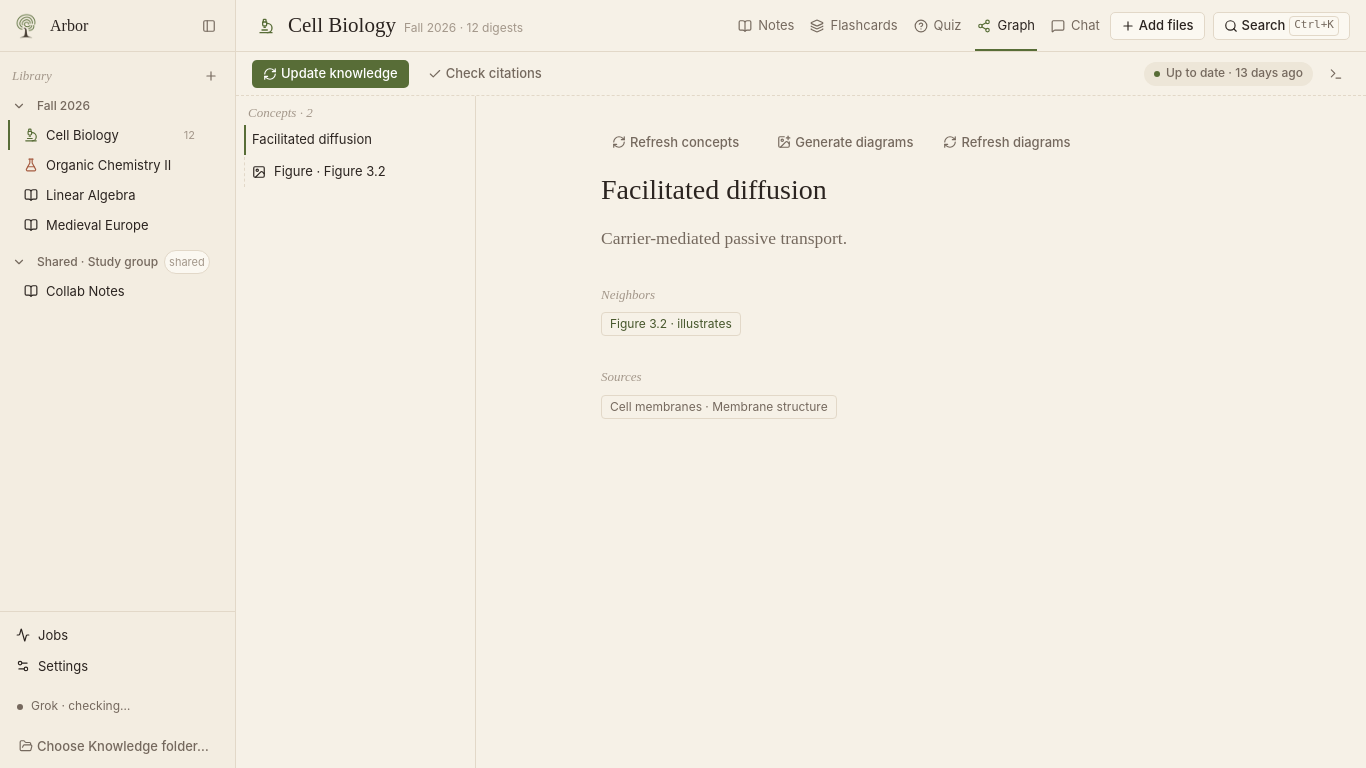
it: graph PR10 › selects list rows and updates concept search param
The width and height of the screenshot is (1366, 768).
Expected: the element with test id "graph-view" is shown, [236,96,1082,767]
Expected: the button "Refresh concepts" is shown, [601,128,750,156]
Click the button "Figure · Figure 3.2". click: coordinates (356, 172)
box: [244,157,467,187]
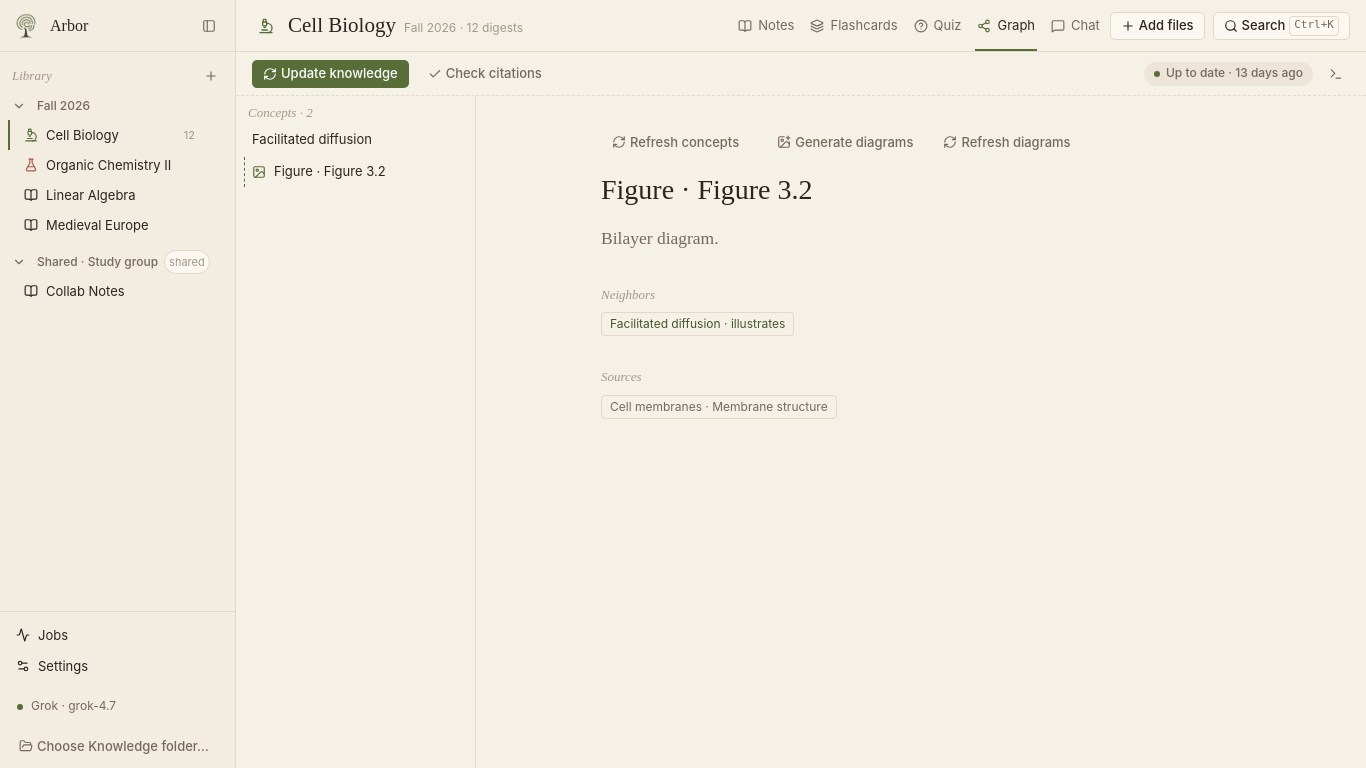
Now the heading "Figure · Figure 3.2" is shown, box [601,174,812,205]
